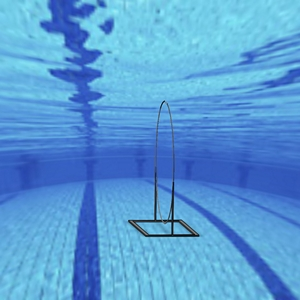circle: (128, 97, 201, 238)
